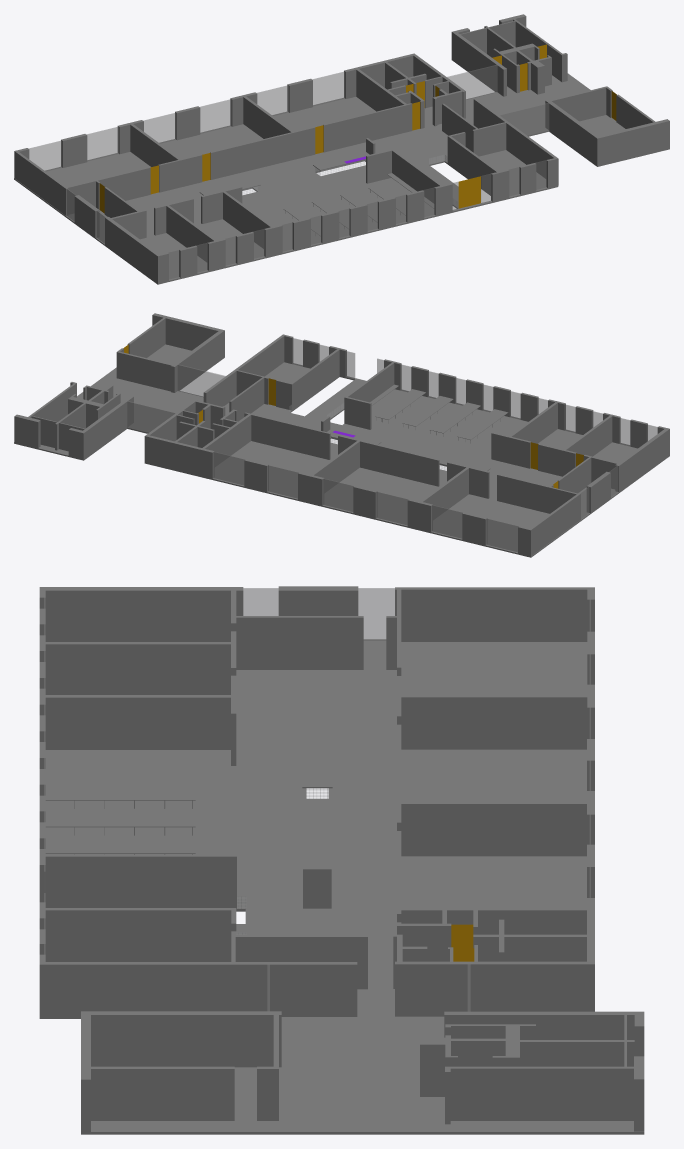
The model's file is R block.gltf.
3 views of the same model, one above another, from view 1: azimuth 30°, elevation 25°; view 2: azimuth 150°, elevation 25°; view 3: azimuth 270°, elevation 25° (orthographic). The views are drawn at different scales.
Bounding box in the file's own units: 8.45 × 0.4375 × 4.38.
Materials: 5 (1 with a texture image).
